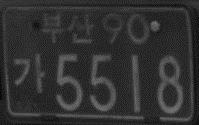0: (126, 11, 151, 44)
1: (127, 51, 146, 117)
5: (88, 52, 118, 113), (55, 52, 84, 112)
8: (156, 55, 185, 115)
9: (101, 11, 125, 45)
가: (12, 53, 47, 98)
부산_O: (41, 10, 95, 47)
